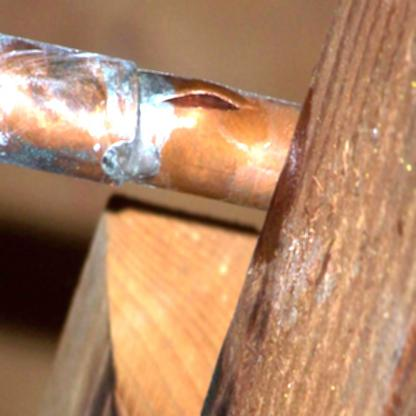burst: (155, 78, 256, 136)
